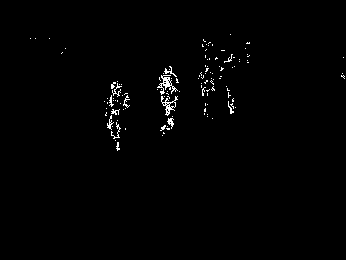person: (105, 81, 133, 154), (157, 65, 180, 133)
